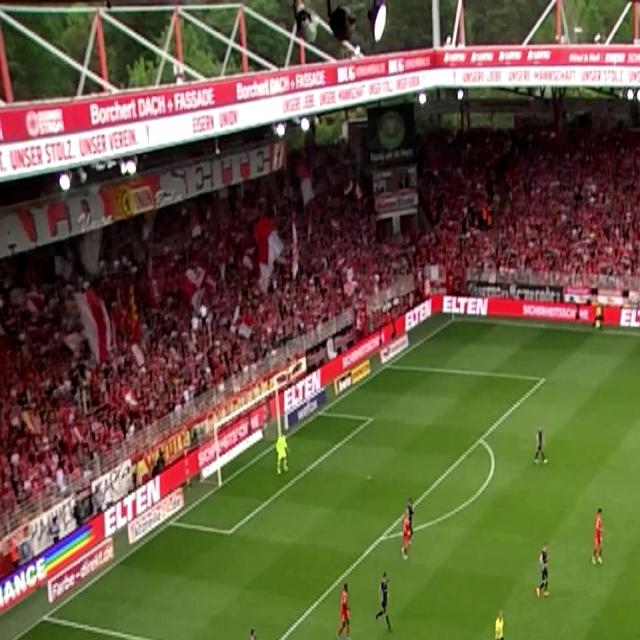goalkeeper: (272, 428, 297, 481)
referee: (486, 607, 513, 640)
soccer-player: (368, 569, 397, 640), (584, 505, 611, 573), (534, 540, 559, 604), (333, 577, 358, 640), (396, 500, 418, 570), (532, 420, 556, 471), (236, 621, 267, 640)
